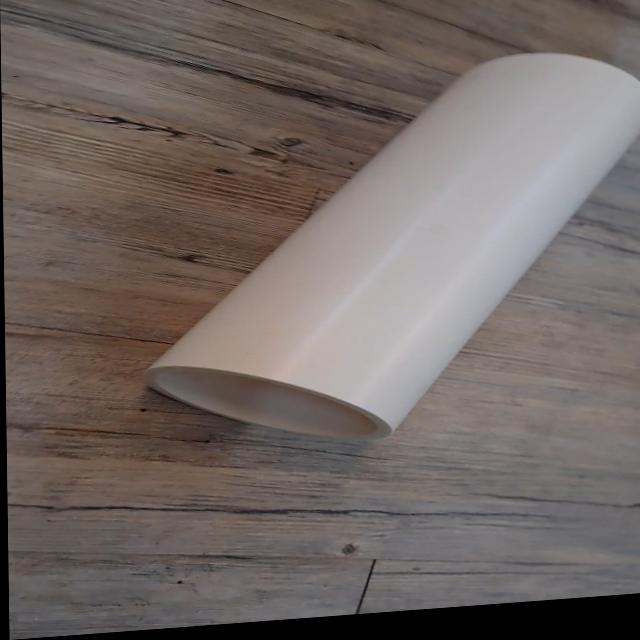CORAL: (117, 31, 640, 466)
